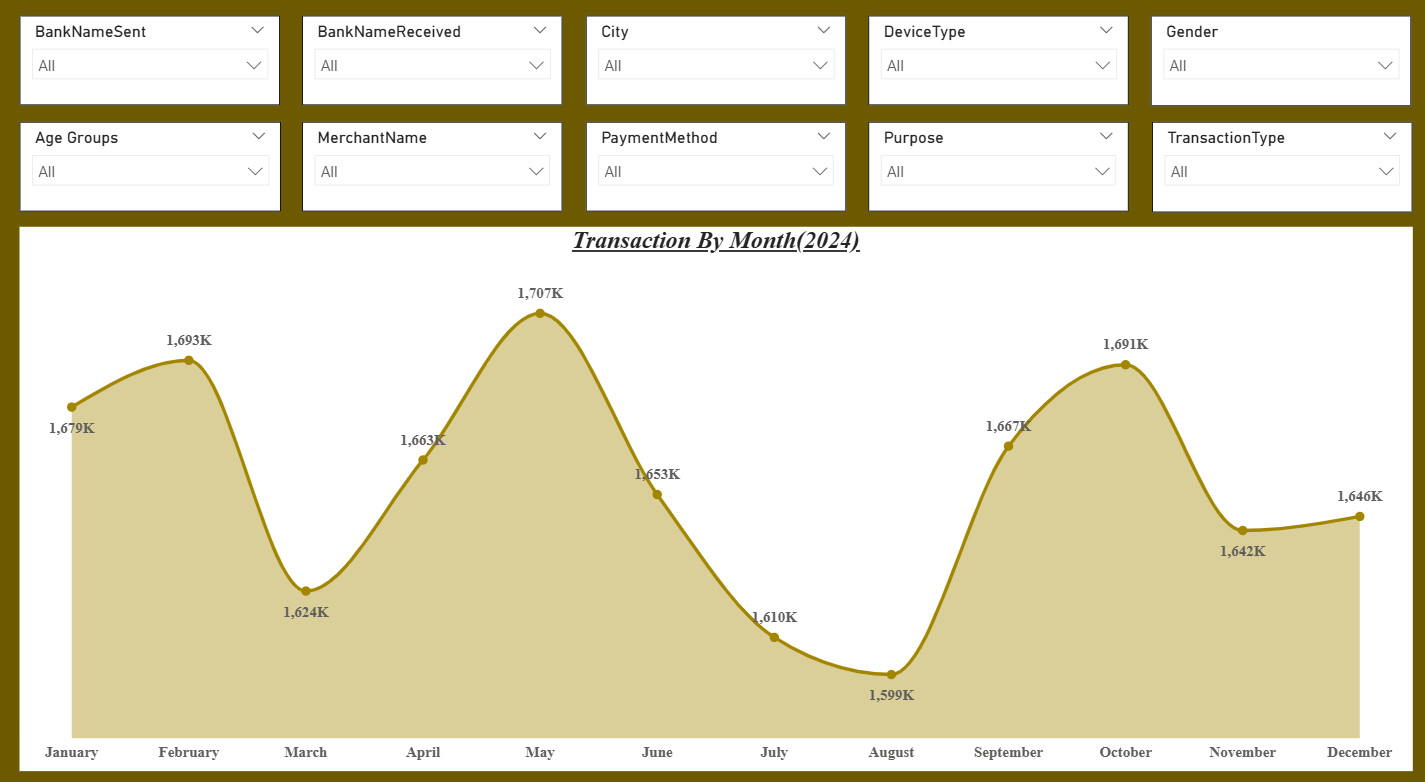

The dashboard page shown, as its layout file describes it:
{"tool":"powerbi","page":{"name":"Page 1","canvas":[1280,720],"ordinal":0},"visuals":[{"type":"slicer","fields":{"Values":["UPI Transaction.BankNameSent"]},"box":[20,20,232,80],"z":0},{"type":"slicer","fields":{"Values":["UPI Transaction.BankNameReceived"]},"box":[272,20,232,80],"z":1},{"type":"slicer","fields":{"Values":["UPI Transaction.City"]},"box":[524,20,232,80],"z":2},{"type":"slicer","fields":{"Values":["UPI Transaction.DeviceType"]},"box":[776,20,232,80],"z":3},{"type":"slicer","fields":{"Values":["UPI Transaction.Gender"]},"box":[1028,20,232,81],"z":4},{"type":"slicer","fields":{"Values":["UPI Transaction.Age Groups"]},"box":[19.6,114.1,233.1,79.8],"z":5},{"type":"slicer","fields":{"Values":["UPI Transaction.MerchantName"]},"box":[271.2,114.1,231.9,79.8],"z":6},{"type":"slicer","fields":{"Values":["UPI Transaction.PaymentMethod"]},"box":[523.9,114.1,231.9,79.8],"z":7},{"type":"slicer","fields":{"Values":["UPI Transaction.Purpose"]},"box":[775.5,114.1,231.9,79.8],"z":8},{"type":"slicer","fields":{"Values":["UPI Transaction.TransactionType"]},"box":[1028.2,114.1,231.9,81],"z":9},{"type":"lineChart","title":"Transaction By Month(2024)","fields":{"Y":["Sum(UPI Transaction.Amount)"],"Category":["UPI Transaction.TransactionDate.Variation.Date Hierarchy.Month"]},"box":[19.6,208.6,1240.5,484.7],"z":10}]}

Visuals, with their boxes in screenshot pixels (x1, y1, x2, y2), scaled from the page's 1280x720 canvas onto the 1425x782 screenshot:
slicer - UPI Transaction.BankNameSent: left=22, top=22, right=281, bottom=109
slicer - UPI Transaction.BankNameReceived: left=303, top=22, right=561, bottom=109
slicer - UPI Transaction.City: left=583, top=22, right=842, bottom=109
slicer - UPI Transaction.DeviceType: left=864, top=22, right=1122, bottom=109
slicer - UPI Transaction.Gender: left=1144, top=22, right=1403, bottom=110
slicer - UPI Transaction.Age Groups: left=22, top=124, right=281, bottom=211
slicer - UPI Transaction.MerchantName: left=302, top=124, right=560, bottom=211
slicer - UPI Transaction.PaymentMethod: left=583, top=124, right=841, bottom=211
slicer - UPI Transaction.Purpose: left=863, top=124, right=1122, bottom=211
slicer - UPI Transaction.TransactionType: left=1145, top=124, right=1403, bottom=212
"Transaction By Month(2024)" lineChart: left=22, top=227, right=1403, bottom=753
